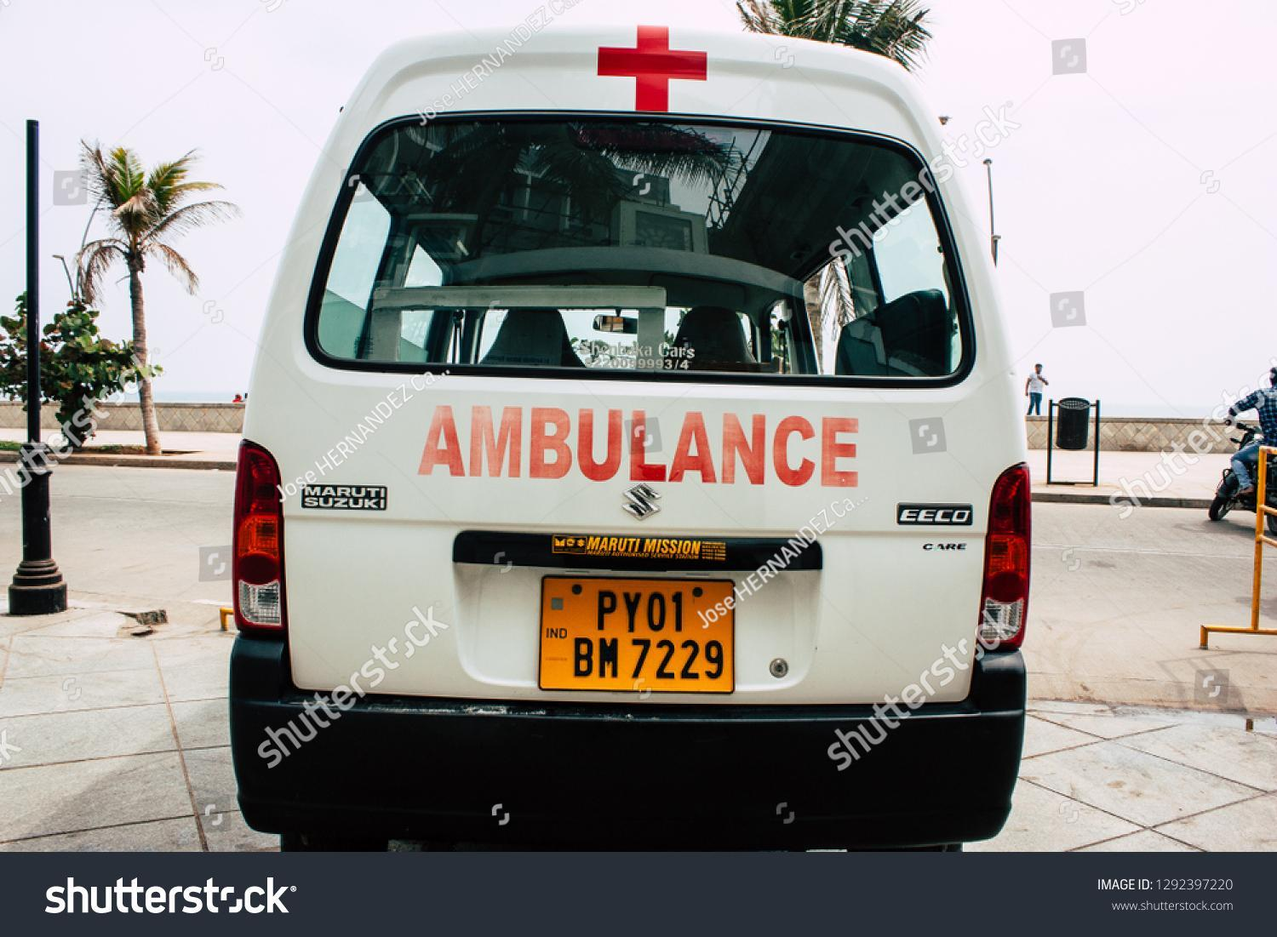Ambulance: (403, 392, 868, 489)
